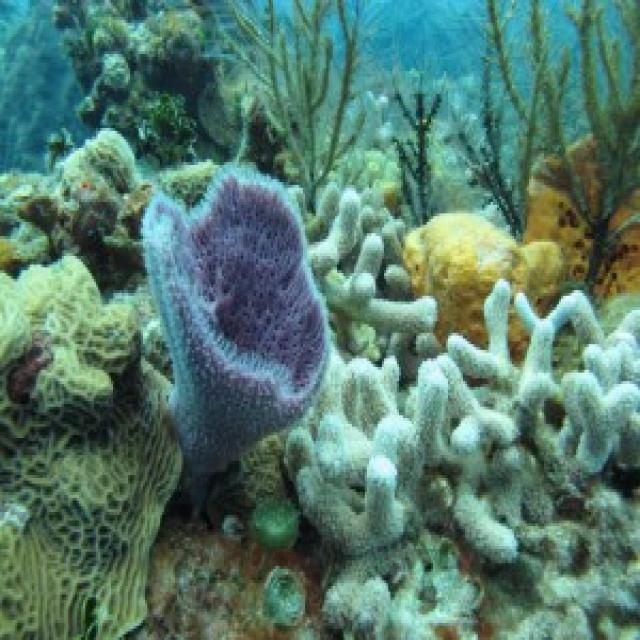Bleached: (285, 183, 639, 638)
Healthy: (404, 1, 639, 342), (1, 257, 180, 638), (144, 166, 327, 496), (227, 1, 364, 203), (1, 129, 152, 288), (67, 10, 236, 149)
